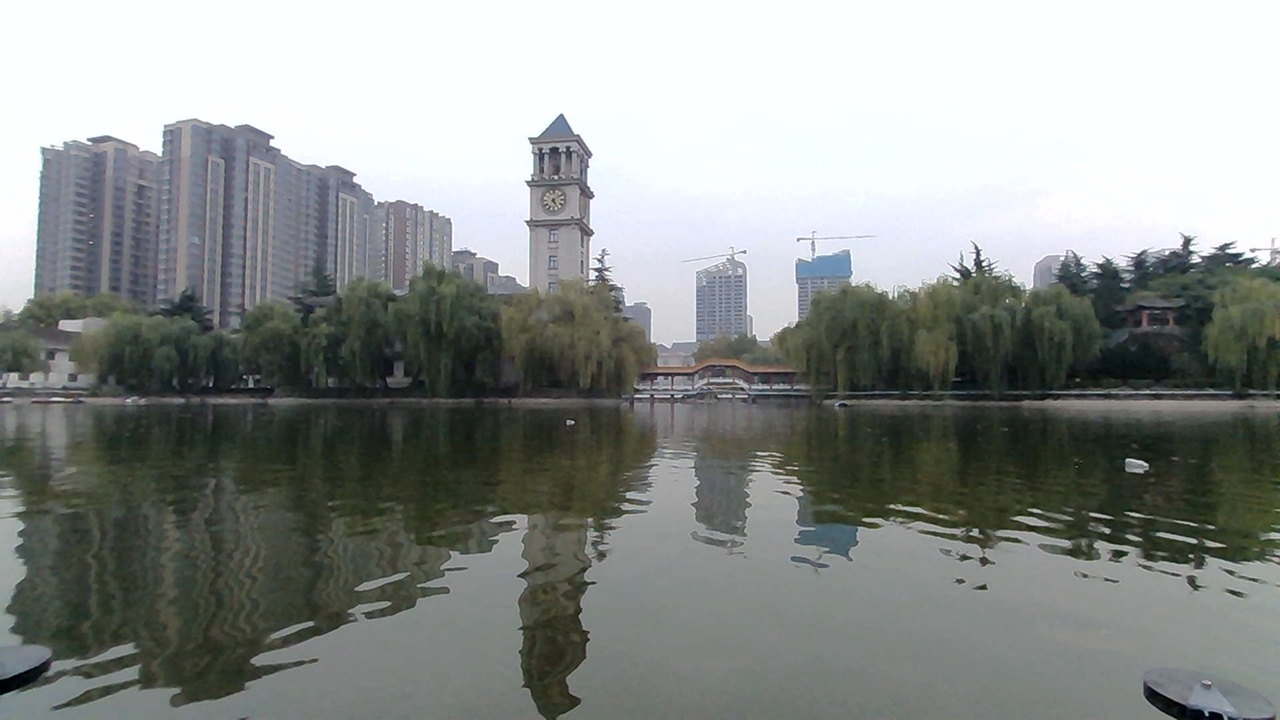bottle: (1122, 453, 1154, 474)
